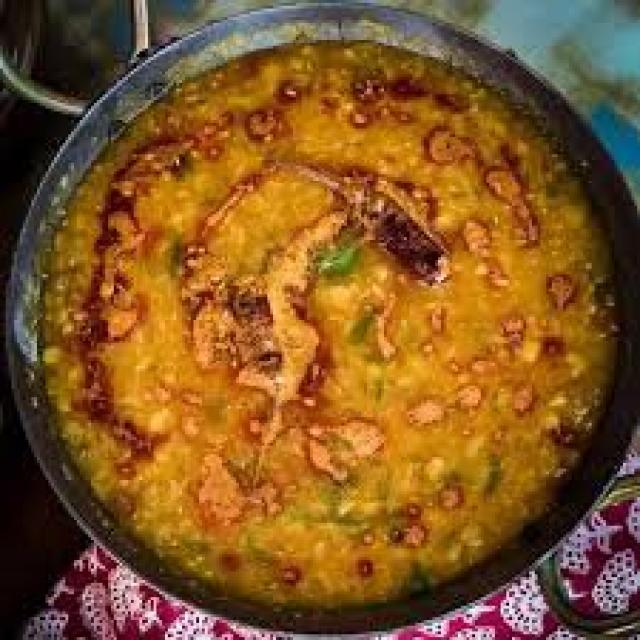dal: (122, 133, 540, 548)
